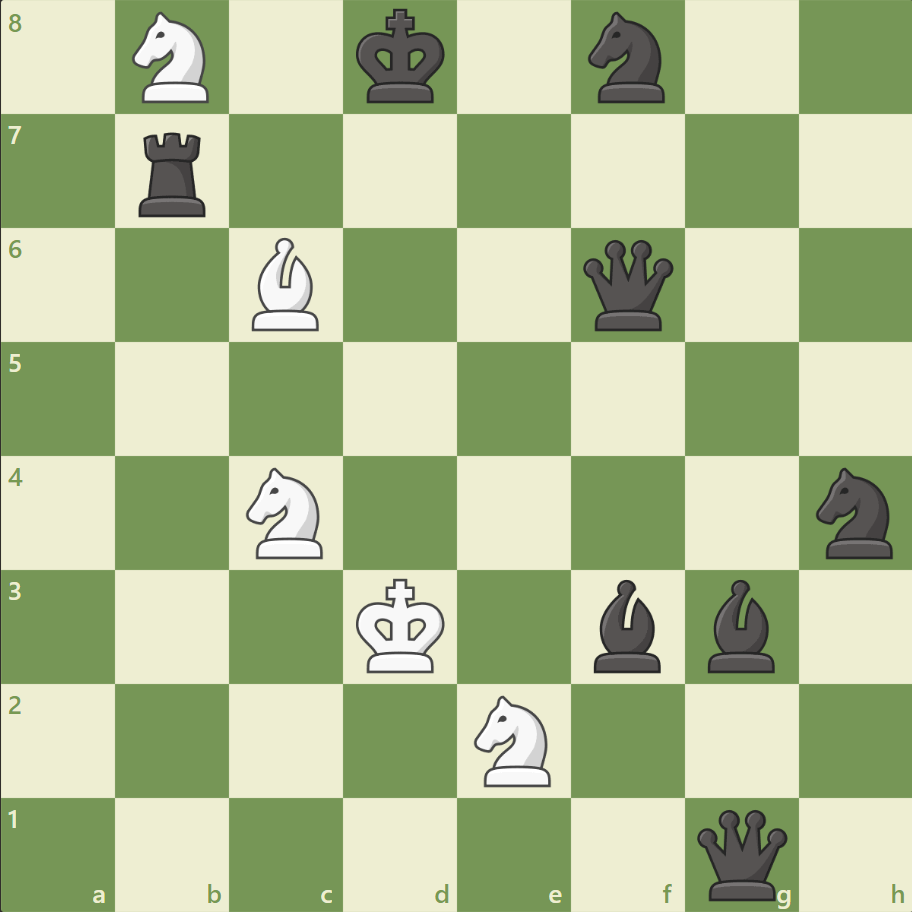B: (244, 233, 328, 336)
K: (351, 571, 451, 679)
N: (124, 7, 222, 110), (238, 461, 335, 564), (465, 688, 562, 791)
b: (585, 574, 669, 676), (698, 574, 782, 676)
k: (351, 4, 451, 112)
n: (579, 7, 676, 110), (806, 461, 903, 564)
q: (578, 236, 677, 335), (691, 804, 790, 903)
r: (133, 125, 215, 222)
